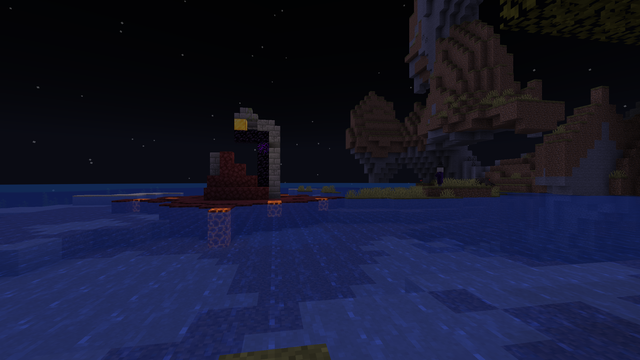araignees: (472, 177, 494, 185)
sorcieres: (435, 166, 444, 185)
